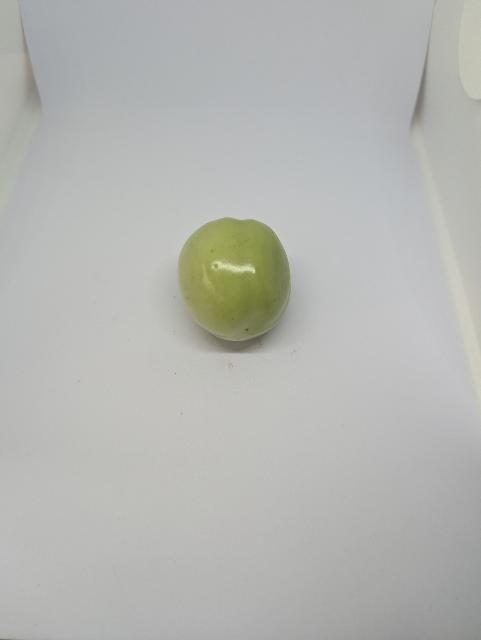green: (173, 212, 301, 348)
